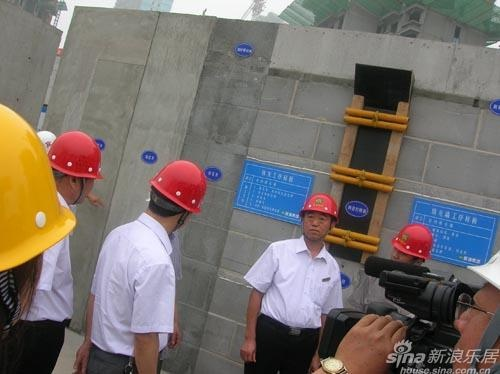red: (44, 131, 104, 206), (148, 159, 205, 229), (390, 224, 434, 270), (299, 191, 336, 243)
